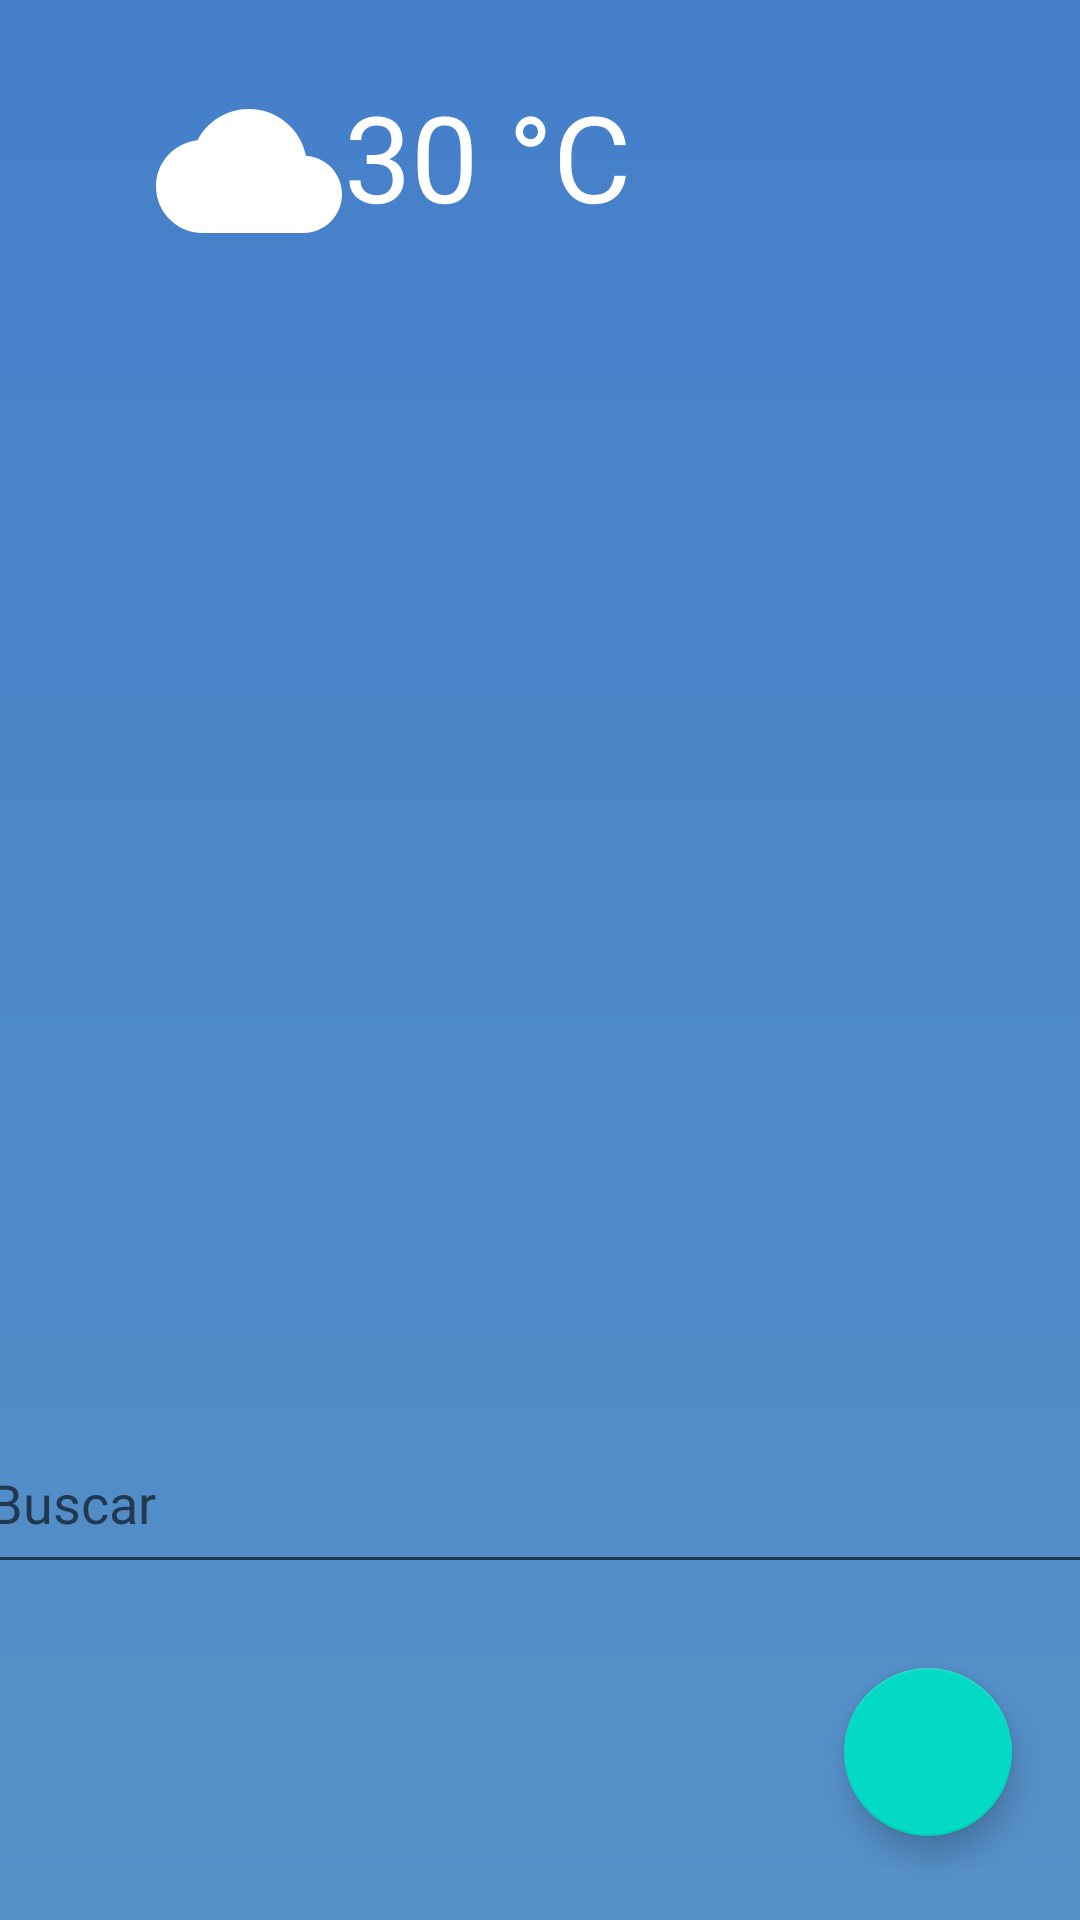

Where to tap for icons on this 1080x1920 app screen, as (x,y):
cloud: (249,171)
